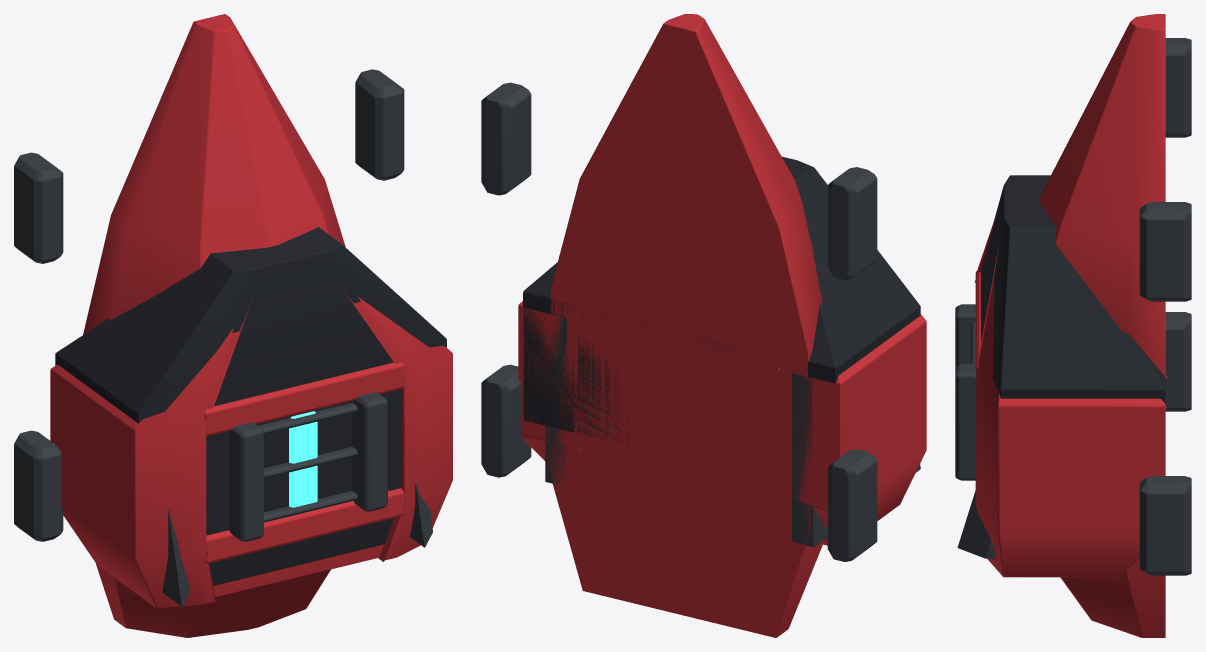
File: CalfFront_Set03_Overclock.fbx
3 renders of one model, left to right at view 1: azimuth 30°, elevation 25°; view 2: azimuth 150°, elevation 25°; view 3: azimuth 270°, elevation 25°, orthographic. The views are drawn at different scales.
Parts seen in each view (by area): view 1: CalfFront_Set03_Overclock; view 2: CalfFront_Set03_Overclock; view 3: CalfFront_Set03_Overclock.
Boxes of the visible parts, left/top/right/bottom form: CalfFront_Set03_Overclock: left=14, top=14, right=452, bottom=637; CalfFront_Set03_Overclock: left=481, top=14, right=926, bottom=637; CalfFront_Set03_Overclock: left=955, top=14, right=1191, bottom=637.
Size of the model in its own units: 0.49 by 0.73 by 0.2736.
